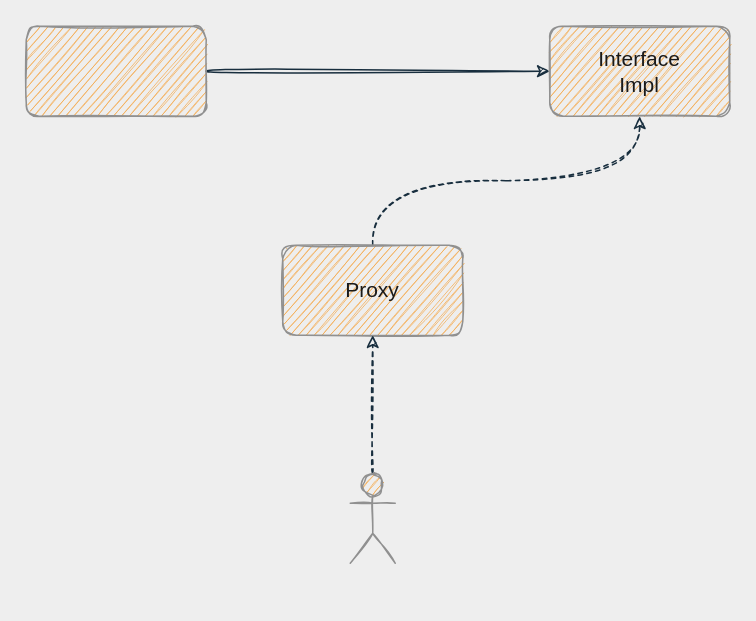
The diagram is 756 pixels wide and 621 high, and some of its shapes have lost their labels. Here are the shapes that lost their labels. From the top down, the box of each, then its label:
(25, 25, 206, 116): Interface
(349, 472, 395, 563): 调用方
